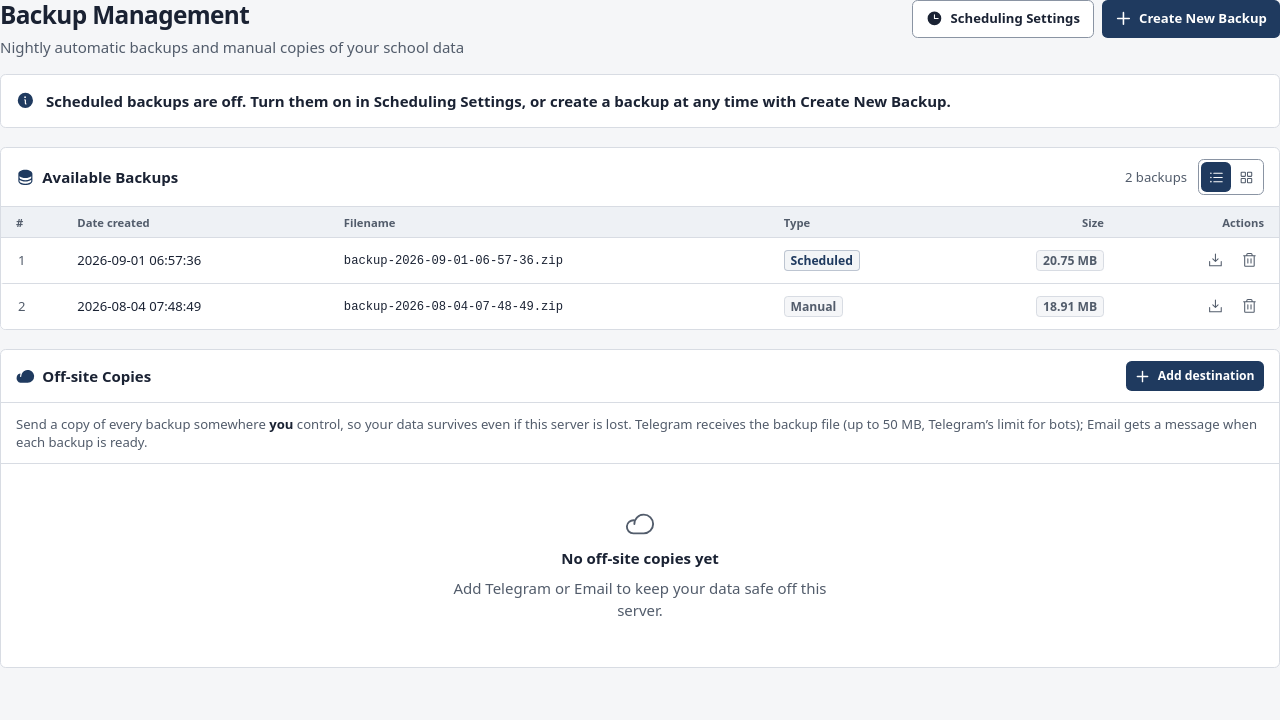
Test: BackupManagementPage › opens the scheduling preferences
Click the button "Scheduling Settings": (1003, 19) [912, 0, 1094, 38]
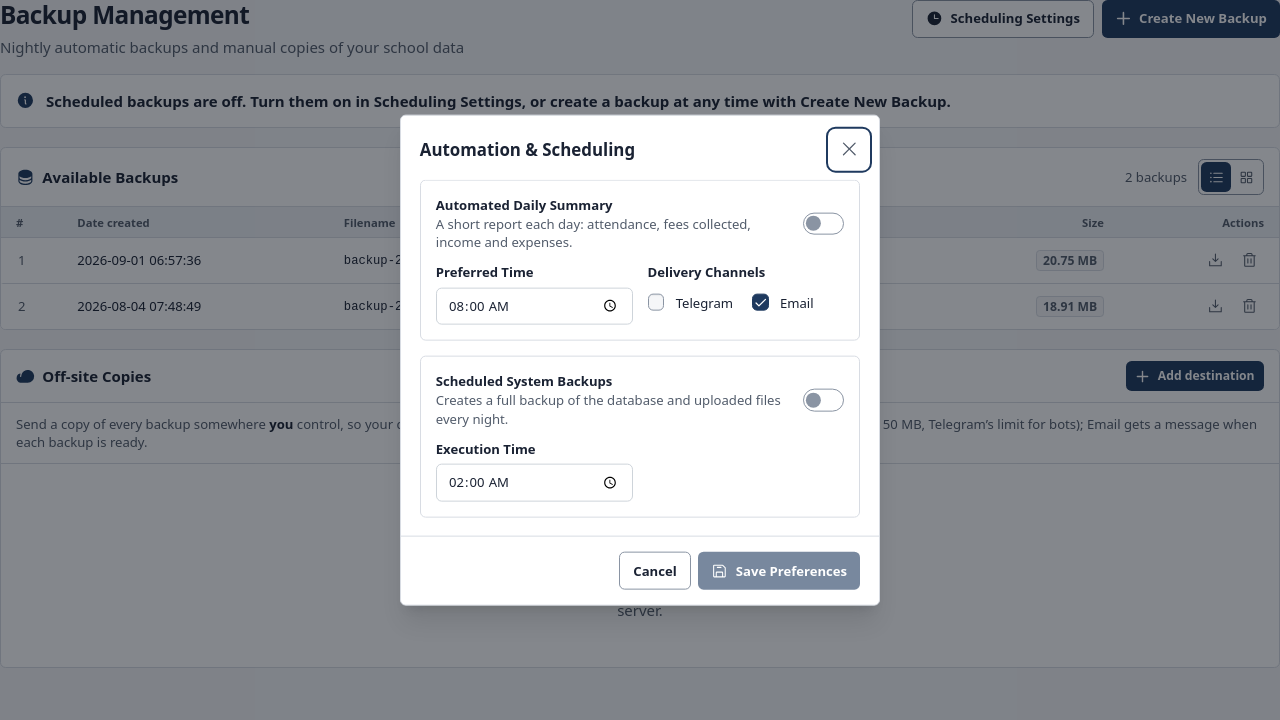
Expected: the switch named "Scheduled System Backups" below "Scheduled System Backups" is shown, [803, 389, 844, 411]
Expected: the 1st checkbox named "Telegram" is shown, [648, 294, 664, 311]
